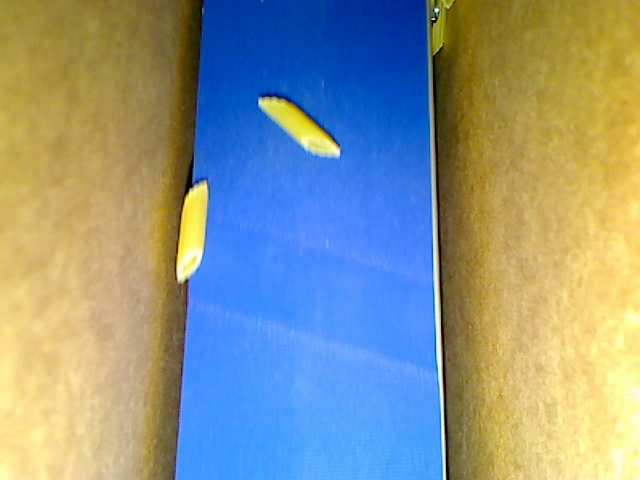penne: (256, 96, 339, 157), (175, 174, 210, 278)
